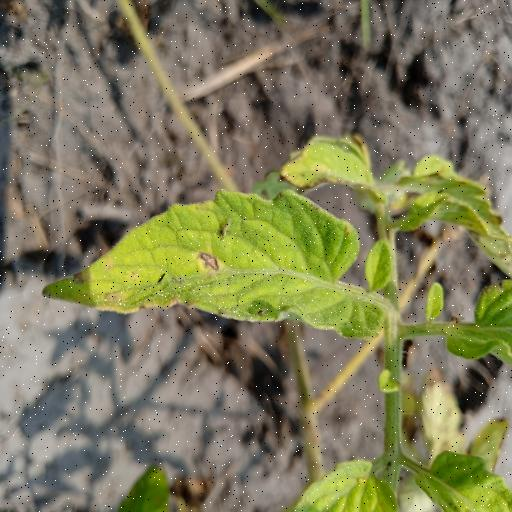Tomato_Brown_Spots: (45, 188, 402, 338)
